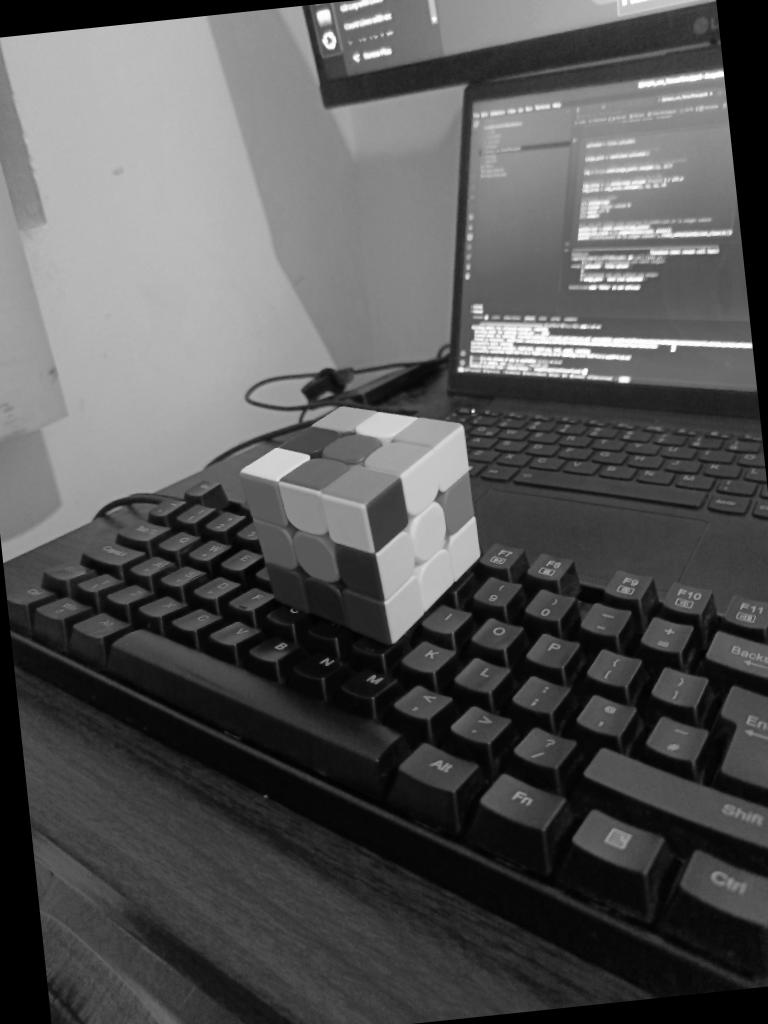rubik: (232, 390, 492, 658)
